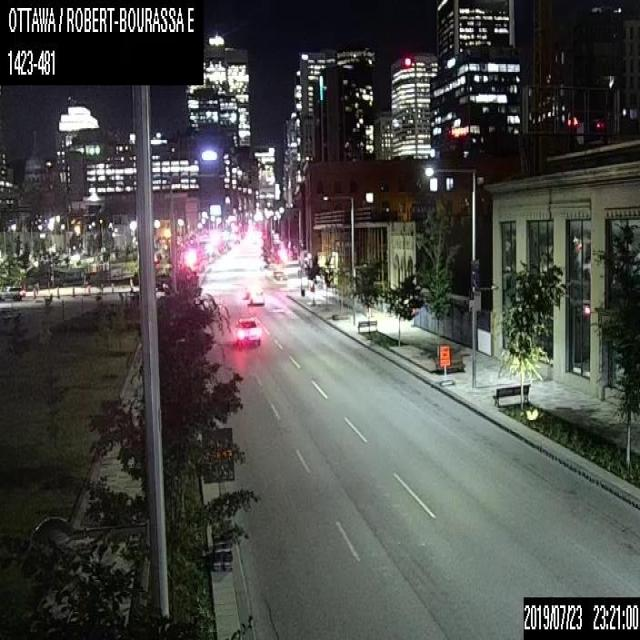construction: (200, 426, 233, 570), (436, 343, 450, 385)
vehicle: (234, 314, 261, 346), (0, 284, 25, 300), (248, 285, 264, 304)
